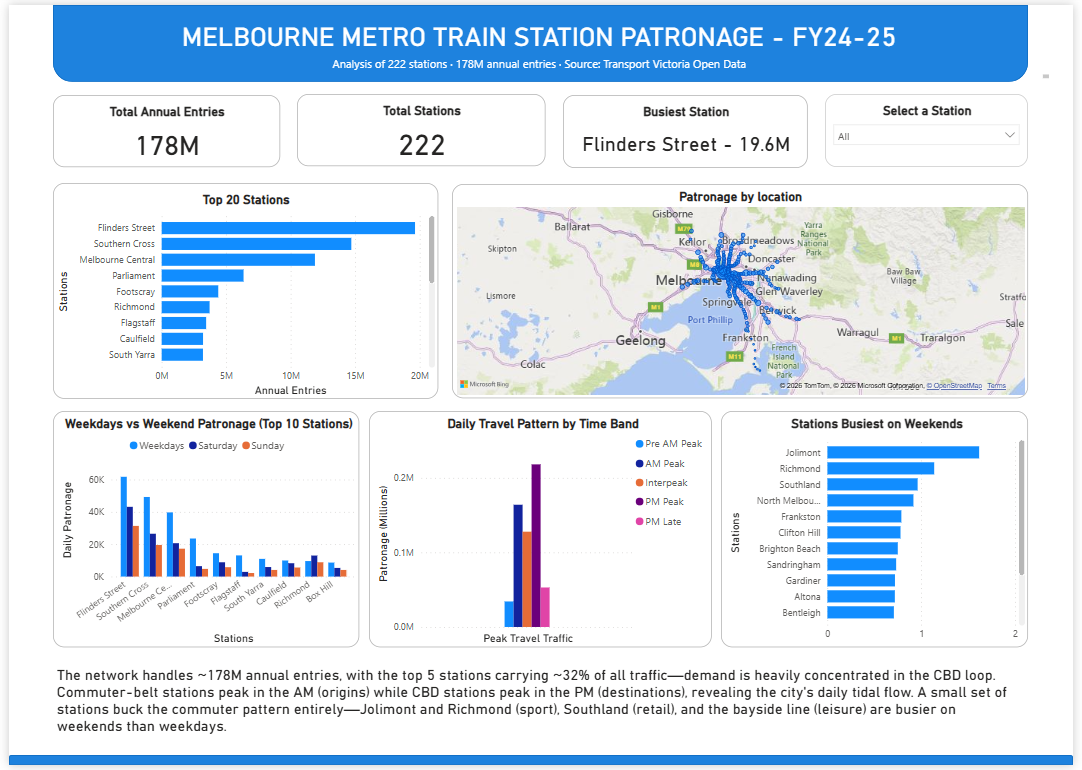

What the dashboard file says about the page in this screenshot:
{"tool":"powerbi","page":{"name":"Page 1","canvas":[1400,1000],"ordinal":0},"visuals":[{"type":"shape","box":[57.9,0,1282.9,101.3],"z":0},{"type":"card","title":"Total Annual Entries","fields":{"Values":["Sum(annual_metropolitan_train_station_entries_fy_2024_2025.Annual Entries)"]},"box":[57.9,118.4,298.7,94.7],"z":1000},{"type":"card","title":"Total Stations ","fields":{"Values":["Count(annual_metropolitan_train_station_entries_fy_2024_2025.Stop_name)"]},"box":[379.2,117.5,327,95.2],"z":2000},{"type":"clusteredBarChart","title":"Top 20 Stations","fields":{"Category":["annual_metropolitan_train_station_entries_fy_2024_2025.Stop_name"],"Y":["Sum(annual_metropolitan_train_station_entries_fy_2024_2025.Annual Entries)"]},"box":[57.9,234.2,506.6,284.2],"z":3000},{"type":"map","title":"Patronage by location","fields":{"Y":["annual_metropolitan_train_station_entries_fy_2024_2025.Stop_lat"],"X":["annual_metropolitan_train_station_entries_fy_2024_2025.Stop_long"],"Size":["Sum(annual_metropolitan_train_station_entries_fy_2024_2025.Annual Entries)"]},"box":[582.9,235.5,757.9,281.6],"z":4000},{"type":"clusteredColumnChart","title":"Daily Travel Pattern by Time Band","fields":{"Y":["Sum(annual_metropolitan_train_station_entries_fy_2024_2025.Pax_pre_AM_peak)","Sum(annual_metropolitan_train_station_entries_fy_2024_2025.AM Peak)","Sum(annual_metropolitan_train_station_entries_fy_2024_2025.Pax_interpeak)","Sum(annual_metropolitan_train_station_entries_fy_2024_2025.Pax_PM_peak)","Sum(annual_metropolitan_train_station_entries_fy_2024_2025.Pax_PM_late)"]},"box":[473.7,534.2,451.3,310.5],"z":5000},{"type":"slicer","title":"Select a Station","fields":{"Values":["annual_metropolitan_train_station_entries_fy_2024_2025.Stop_name"]},"box":[1073.7,117.1,267.1,96.1],"z":6000},{"type":"clusteredColumnChart","title":"Weekdays vs Weekend Patronage (Top 10 Stations)","fields":{"Category":["annual_metropolitan_train_station_entries_fy_2024_2025.Stop_name"],"Y":["Sum(annual_metropolitan_train_station_entries_fy_2024_2025.Pax_norm_weekday)","Sum(annual_metropolitan_train_station_entries_fy_2024_2025.Pax_Saturday)","Sum(annual_metropolitan_train_station_entries_fy_2024_2025.Pax_Sunday)"]},"box":[57.9,534.2,402.6,310.5],"z":7000},{"type":"clusteredBarChart","title":"Stations Busiest on Weekends","fields":{"Category":["annual_metropolitan_train_station_entries_fy_2024_2025.Stop_name"],"Y":["Sum(annual_metropolitan_train_station_entries_fy_2024_2025.Weekend Ratio)"]},"box":[936.8,534.2,403.9,310.5],"z":8000},{"type":"textbox","box":[57.9,865.8,1282.9,109.2],"z":9000},{"type":"textbox","title":"MELBOURNE METRO TRAIN STATION PATRONAGE - FY24-25","box":[22.2,22.2,1350.8,79.4],"z":10000},{"type":"card","title":"Busiest Station","fields":{"Values":["annual_metropolitan_train_station_entries_fy_2024_2025.Busiest Station"]},"box":[728.7,118.4,322.4,96.1],"z":11000},{"type":"shape","box":[0,986.8,1400,13.2],"z":12000}]}

Visuals, with their boxes in screenshot pixels (x1, y1, x2, y2), scaled from the page's 1400x1000 canvas onto the 1082x770 screenshot:
shape: 45:0:1036:78
"Total Annual Entries" card: 45:91:276:164
"Total Stations " card: 293:90:546:164
"Top 20 Stations" clusteredBarChart: 45:180:436:399
"Patronage by location" map: 450:181:1036:398
"Daily Travel Pattern by Time Band" clusteredColumnChart: 366:411:715:650
"Select a Station" slicer: 830:90:1036:164
"Weekdays vs Weekend Patronage (Top 10 Stations)" clusteredColumnChart: 45:411:356:650
"Stations Busiest on Weekends" clusteredBarChart: 724:411:1036:650
textbox: 45:667:1036:751
"MELBOURNE METRO TRAIN STATION PATRONAGE - FY24-25" textbox: 17:17:1061:78
"Busiest Station" card: 563:91:812:165
shape: 0:760:1081:769
